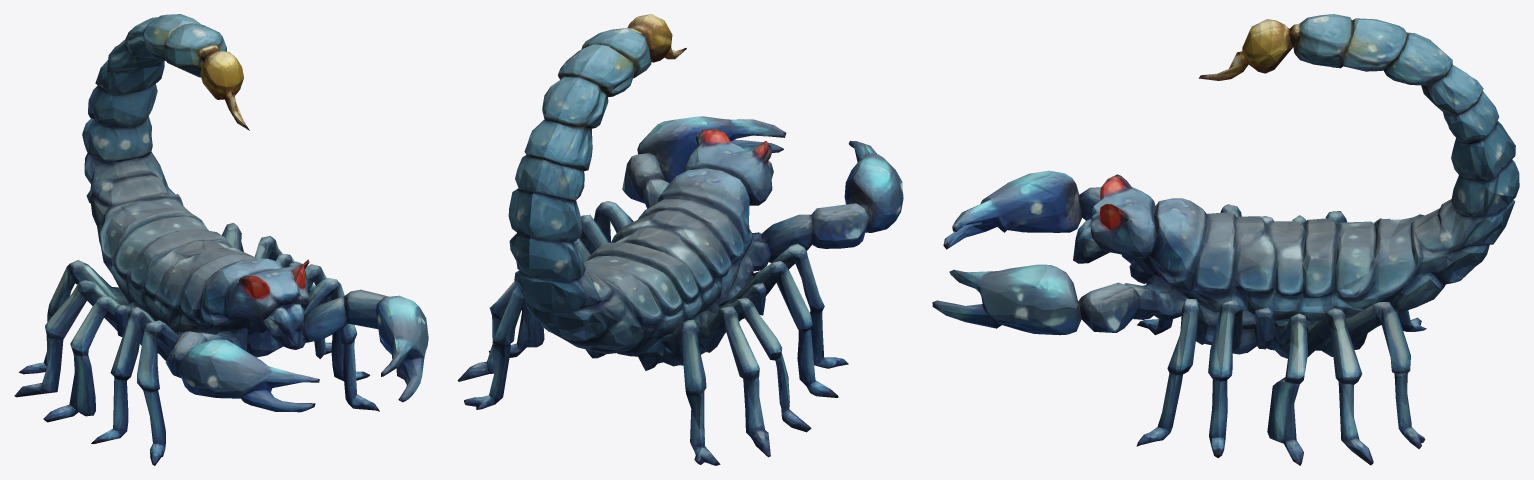
The model's file is scorpion.glb.
The picture shows the model from 3 angles, left to right: view 1: azimuth 30°, elevation 25°; view 2: azimuth 150°, elevation 25°; view 3: azimuth 270°, elevation 25°; orthographic projection. The views are drawn at different scales.
Parts seen in each view (by area): view 1: world; view 2: world; view 3: world.
Part boxes in pixels (<box>): world: <box>14,14,428,465</box>; world: <box>457,14,903,465</box>; world: <box>932,14,1519,465</box>.
Bounding box in the file's own units: 0.6333 × 0.6911 × 0.9714.
1 material, 1 textured.
